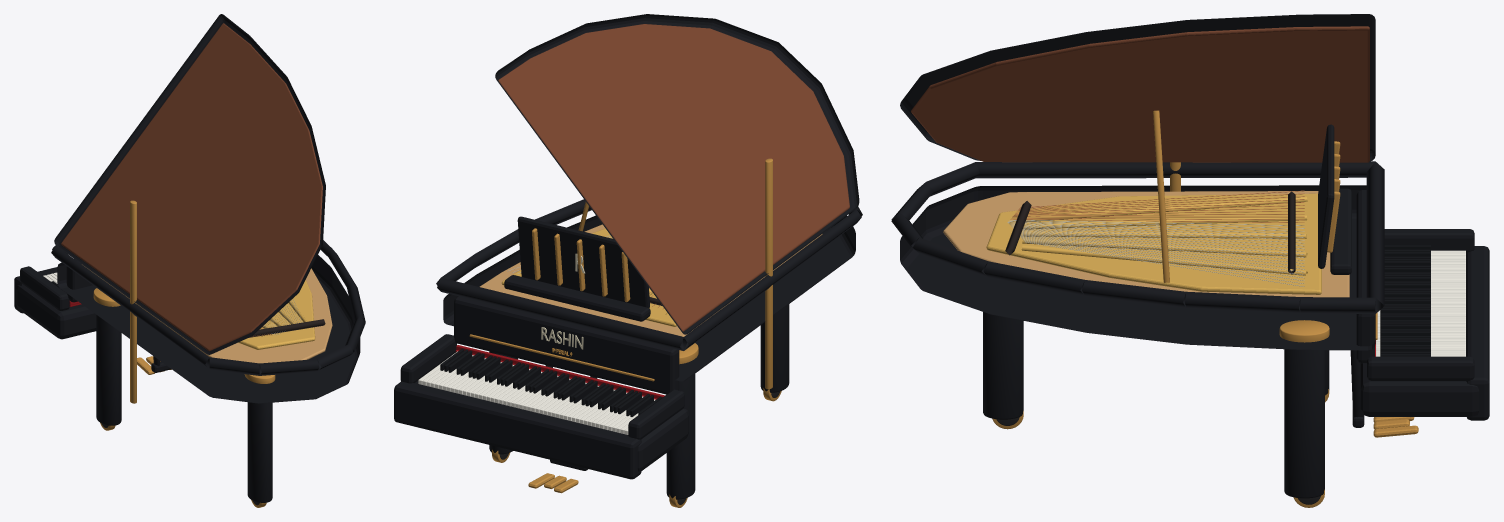
File: rashin-imperial-9-hero.glb
3 views of the same model, side by side, from view 1: azimuth 30°, elevation 25°; view 2: azimuth 150°, elevation 25°; view 3: azimuth 270°, elevation 25° (orthographic). The views are drawn at different scales.
Visible parts, largest first — view 1: open_lid_warm_underside, concert_grand_case, open_concert_lid, spruce_soundboard, grand_leg_1, grand_leg_3, keyboard_bed, lacquer_rim_10, imperial_cast_harp, lid_long_hinge, left_key_cheek, lacquer_rim_08 (+5 smaller); view 2: open_lid_warm_underside, keyboard_front_apron, fallboard, open_concert_lid, concert_grand_case, music_desk_panel, lacquer_rim_01, lacquer_rim_10, music_desk_ledge, grand_leg_1, grand_leg_3, spruce_soundboard (+9 smaller); view 3: open_lid_warm_underside, concert_grand_case, imperial_cast_harp, open_concert_lid, spruce_soundboard, grand_leg_2, lacquer_rim_10, keyboard_bed, grand_leg_3, keyboard_front_apron, right_key_cheek, lacquer_rim_01 (+17 smaller).
Boxes of the visible parts, box(x1,y1,x2,y2) form: open_lid_warm_underside: box(61, 23, 322, 351); concert_grand_case: box(57, 255, 360, 403); open_concert_lid: box(54, 14, 325, 354); spruce_soundboard: box(82, 264, 332, 363); grand_leg_1: box(96, 315, 121, 425); grand_leg_3: box(247, 402, 272, 502); keyboard_bed: box(16, 285, 96, 339); lacquer_rim_10: box(51, 245, 209, 369); imperial_cast_harp: box(238, 280, 315, 349); lid_long_hinge: box(130, 200, 136, 403); left_key_cheek: box(20, 266, 69, 310); lacquer_rim_08: box(259, 359, 319, 375); open_lid_warm_underside: box(498, 24, 849, 331); keyboard_front_apron: box(394, 381, 641, 479); fallboard: box(454, 296, 679, 394); open_concert_lid: box(495, 14, 859, 334); concert_grand_case: box(443, 215, 855, 381); music_desk_panel: box(517, 216, 649, 307); lacquer_rim_01: box(437, 277, 687, 350); lacquer_rim_10: box(680, 209, 861, 350); music_desk_ledge: box(504, 275, 650, 321); grand_leg_1: box(666, 374, 695, 499); grand_leg_3: box(760, 304, 789, 392); spruce_soundboard: box(479, 224, 822, 336); open_lid_warm_underside: box(911, 26, 1369, 162); concert_grand_case: box(900, 185, 1375, 350); imperial_cast_harp: box(986, 193, 1321, 294); open_concert_lid: box(900, 14, 1375, 161); spruce_soundboard: box(943, 191, 1349, 297); grand_leg_2: box(1284, 349, 1324, 498); lacquer_rim_10: box(975, 161, 1375, 178); keyboard_bed: box(1360, 253, 1479, 416); grand_leg_3: box(983, 312, 1023, 419); keyboard_front_apron: box(1466, 246, 1489, 420); right_key_cheek: box(1367, 356, 1474, 380); lacquer_rim_01: box(1366, 161, 1384, 313).
Size of the model in its own units: 1.56 by 2.45 by 2.78.
